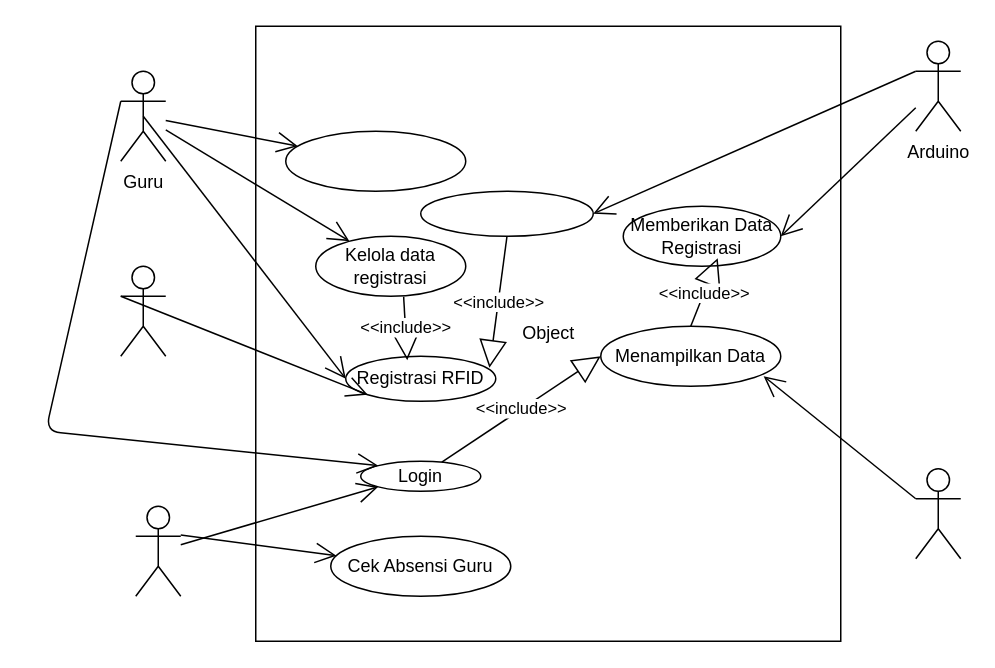
Image size: 995x668. Some labels were removed from this diagram. The centre of each missing label's shape, as x and y in pixels:
Cek Absensi Murid: point 375,160
Kepala Sekolah: point 157,550
Menerima Data Registrasi: point 506,213
Murid: point 142,310
Sistem: point 937,513
